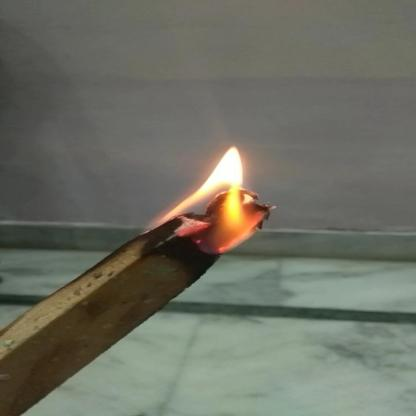fire: (146, 141, 285, 254)
